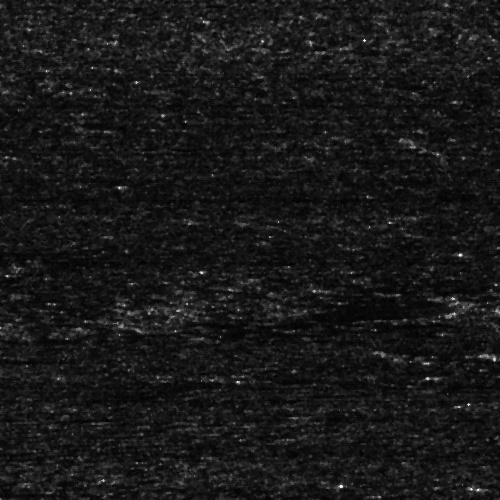shadow: (0, 245, 68, 254), (0, 488, 54, 495), (0, 354, 31, 361)
